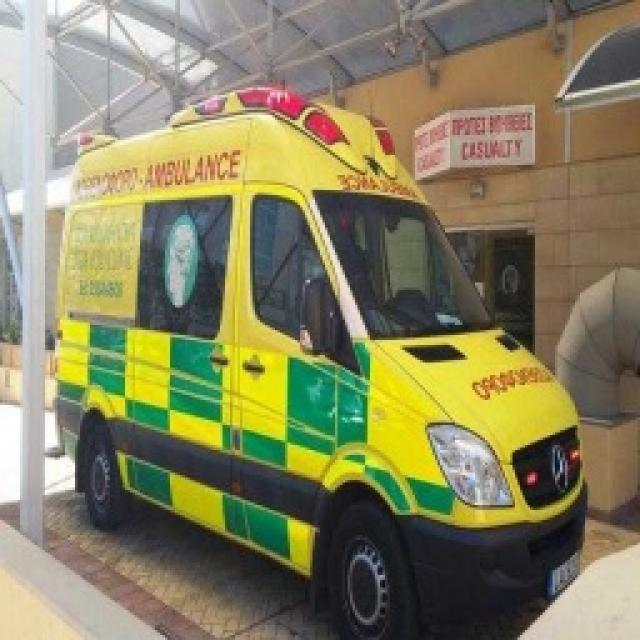emergency-vehicle: (59, 86, 583, 640)
